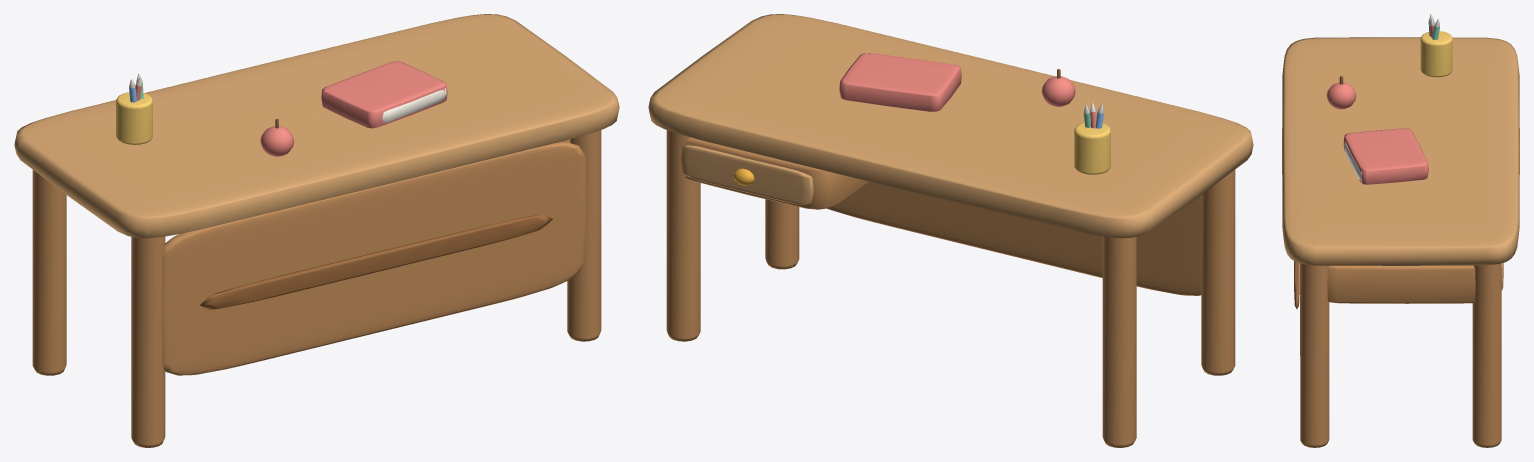
The model's file is desk_teacher.glb.
The picture shows the model from 3 angles, left to right: view 1: azimuth 30°, elevation 25°; view 2: azimuth 150°, elevation 25°; view 3: azimuth 270°, elevation 25°; orthographic projection. The views are drawn at different scales.
Visible parts, largest first — view 1: desk_teacher; view 2: desk_teacher; view 3: desk_teacher.
Part boxes in pixels (x1=…): desk_teacher: x1=14, y1=14, x2=619, y2=447; desk_teacher: x1=648, y1=14, x2=1253, y2=447; desk_teacher: x1=1282, y1=14, x2=1519, y2=447.
Bounding box in the file's own units: 1.7 × 0.9838 × 0.8.
Materials: 1 (1 with a texture image).
